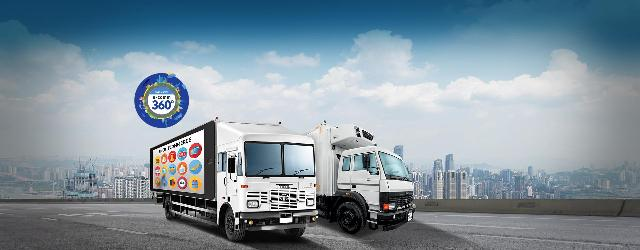truck: (127, 123, 323, 240)
